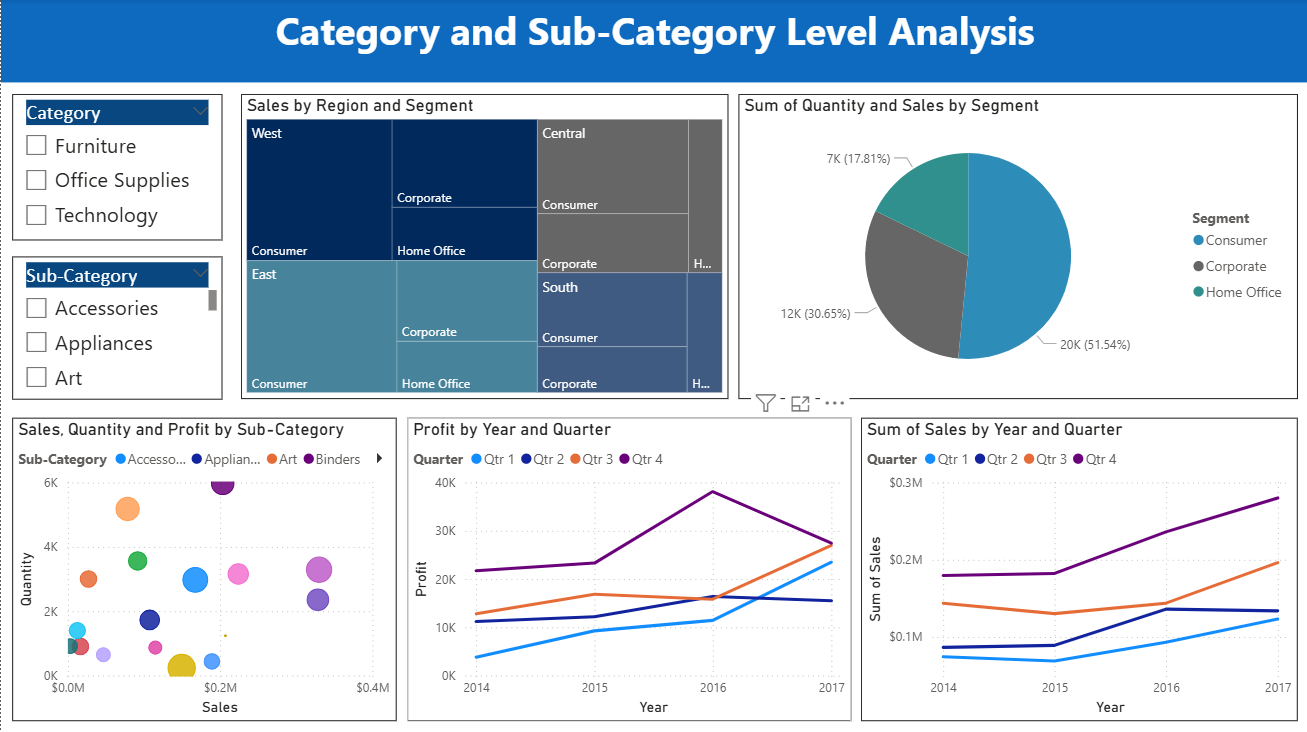

The page's visual inventory and layout, read from the dashboard file:
{"tool":"powerbi","page":{"name":"Category and Subcategory","canvas":[1280,720],"ordinal":2},"visuals":[{"type":"textbox","box":[0,0,1280,81.4],"z":0},{"type":"slicer","fields":{"Values":["Orders.Category"]},"box":[11.4,92.9,205.7,142.9],"z":1000},{"type":"slicer","fields":{"Values":["Orders.Sub-Category"]},"box":[11.4,251.4,205.7,140],"z":2000},{"type":"treemap","fields":{"Values":["Sum(Orders.Sales)"],"Details":["Orders.Segment"],"Group":["Orders.Region"]},"box":[234.3,92.9,477.1,298.6],"z":3000},{"type":"pieChart","fields":{"Category":["Orders.Segment"],"Y":["Sum(Orders.Quantity)"]},"box":[721.4,92.9,547.1,298.6],"z":4000},{"type":"scatterChart","fields":{"Series":["Orders.Sub-Category"],"X":["Sum(Orders.Sales)"],"Y":["Sum(Orders.Quantity)"],"Size":["Sum(Orders.Profit)"]},"box":[11.4,410,375.7,297.1],"z":4001},{"type":"lineChart","fields":{"Series":["Orders.Order Date.Variation.Date Hierarchy.Quarter"],"Category":["Orders.Order Date.Variation.Date Hierarchy.Year"],"Y":["Sum(Orders.Profit)"]},"box":[397.1,410,434.3,297.1],"z":4002},{"type":"lineChart","fields":{"Category":["Orders.Order Date.Variation.Date Hierarchy.Year"],"Series":["Orders.Order Date.Variation.Date Hierarchy.Quarter"],"Y":["Sum(Orders.Sales)"]},"box":[841.4,410,427.1,297.1],"z":4003}]}

Visuals, with their boxes in screenshot pixels (x1, y1, x2, y2), scaled from the page's 1280x720 canvas onto the 1307x732 screenshot:
textbox: bbox(0, 0, 1306, 83)
slicer - Orders.Category: bbox(12, 94, 222, 240)
slicer - Orders.Sub-Category: bbox(12, 256, 222, 398)
treemap - Sum(Orders.Sales) x Orders.Segment: bbox(239, 94, 726, 398)
pieChart - Orders.Segment x Sum(Orders.Quantity): bbox(737, 94, 1295, 398)
scatterChart - Orders.Sub-Category x Sum(Orders.Sales): bbox(12, 417, 395, 719)
lineChart - Orders.Order Date.Variation.Date Hierarchy.Quarter x Orders.Order Date.Variation.Date Hierarchy.Year: bbox(405, 417, 849, 719)
lineChart - Orders.Order Date.Variation.Date Hierarchy.Year x Orders.Order Date.Variation.Date Hierarchy.Quarter: bbox(859, 417, 1295, 719)
